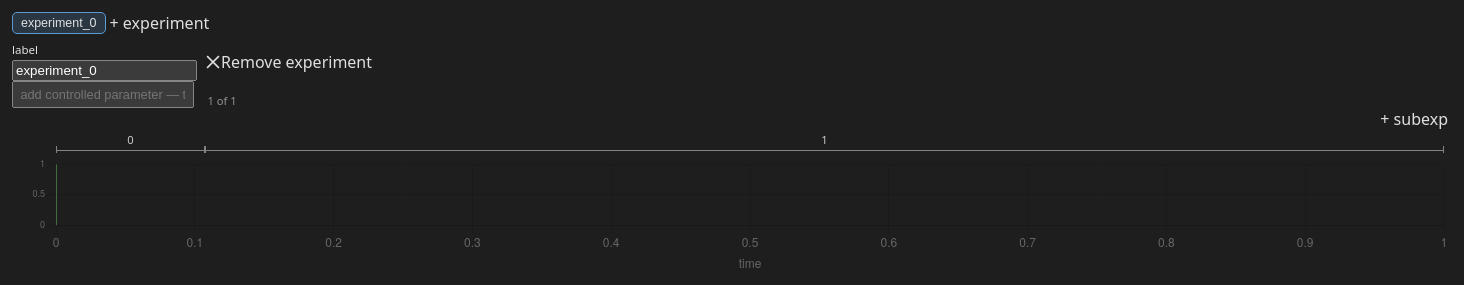
Test: ProtocolInfoEditor › says so when nothing matches, rather than showing an empty list
In the field with test id "param-search": (103, 94) [12,81,194,108], type "zzz"
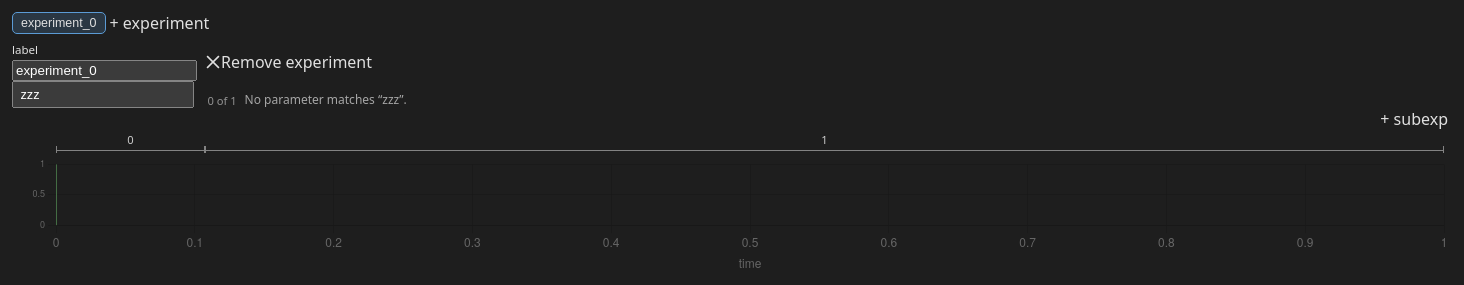
expect the text with test id "param-empty" shows "zzz": met, box [245,91,407,108]
